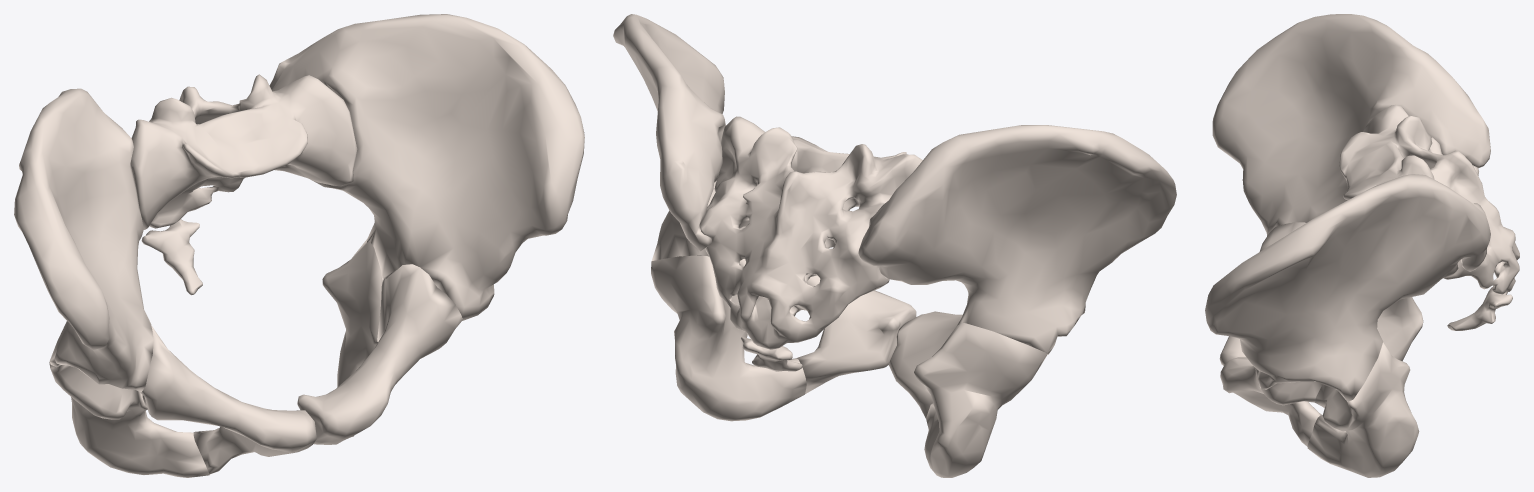
File: 3d-vh-f-pelvis_lod_20.glb
3 renders of one model, left to right at view 1: azimuth 30°, elevation 25°; view 2: azimuth 150°, elevation 25°; view 3: azimuth 270°, elevation 25°, orthographic. The views are drawn at different scales.
Parts seen in each view (by area): view 1: VH_F_ilium_compact_bone_L, VH_F_ilium_compact_bone_R, VH_F_sacrum, VH_F_pubis_compact_bone_L, VH_F_pubis_compact_bone_R, VH_F_ischium_compact_bone_R, VH_F_ischium_compact_bone_L, VH_F_coccyx; view 2: VH_F_ilium_compact_bone_R, VH_F_sacrum, VH_F_ilium_compact_bone_L, VH_F_ischium_compact_bone_L, VH_F_ischium_compact_bone_R, VH_F_pubis_compact_bone_L, VH_F_pubis_compact_bone_R, VH_F_coccyx; view 3: VH_F_ilium_compact_bone_L, VH_F_ilium_compact_bone_R, VH_F_sacrum, VH_F_ischium_compact_bone_L, VH_F_pubis_compact_bone_L, VH_F_ischium_compact_bone_R, VH_F_coccyx, VH_F_pubis_compact_bone_R.
Boxes of the visible parts, <box> form: VH_F_ilium_compact_bone_L: <box>269,14,584,320</box>; VH_F_ilium_compact_bone_R: <box>14,88,153,392</box>; VH_F_sacrum: <box>130,74,357,229</box>; VH_F_pubis_compact_bone_L: <box>297,264,463,444</box>; VH_F_pubis_compact_bone_R: <box>140,325,316,474</box>; VH_F_ischium_compact_bone_R: <box>49,362,209,477</box>; VH_F_ischium_compact_bone_L: <box>322,239,383,436</box>; VH_F_coccyx: <box>141,219,202,295</box>; VH_F_ilium_compact_bone_R: <box>858,125,1176,354</box>; VH_F_sacrum: <box>700,116,922,349</box>; VH_F_ilium_compact_bone_L: <box>613,14,745,260</box>; VH_F_ischium_compact_bone_L: <box>651,255,806,421</box>; VH_F_ischium_compact_bone_R: <box>914,322,1047,477</box>; VH_F_pubis_compact_bone_L: <box>740,259,916,393</box>; VH_F_pubis_compact_bone_R: <box>888,311,962,418</box>; VH_F_coccyx: <box>741,337,802,371</box>; VH_F_ilium_compact_bone_L: <box>1205,174,1490,401</box>; VH_F_ilium_compact_bone_R: <box>1212,14,1490,235</box>; VH_F_sacrum: <box>1339,104,1519,294</box>; VH_F_ischium_compact_bone_L: <box>1307,342,1419,477</box>; VH_F_pubis_compact_bone_L: <box>1220,357,1322,446</box>; VH_F_ischium_compact_bone_R: <box>1377,297,1423,361</box>; VH_F_coccyx: <box>1447,287,1512,330</box>; VH_F_pubis_compact_bone_R: <box>1219,222,1305,365</box>.
Bounding box in the file's own units: 0.3168 × 0.2115 × 0.1827.
